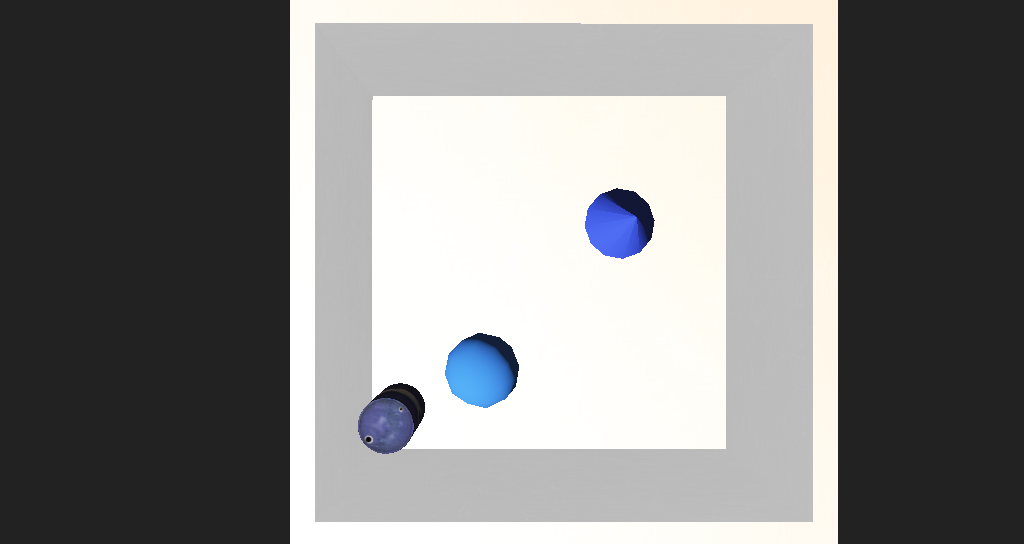cone: (344, 336, 397, 379)
cylinder: (539, 210, 606, 258)
sphere: (421, 308, 482, 351)
